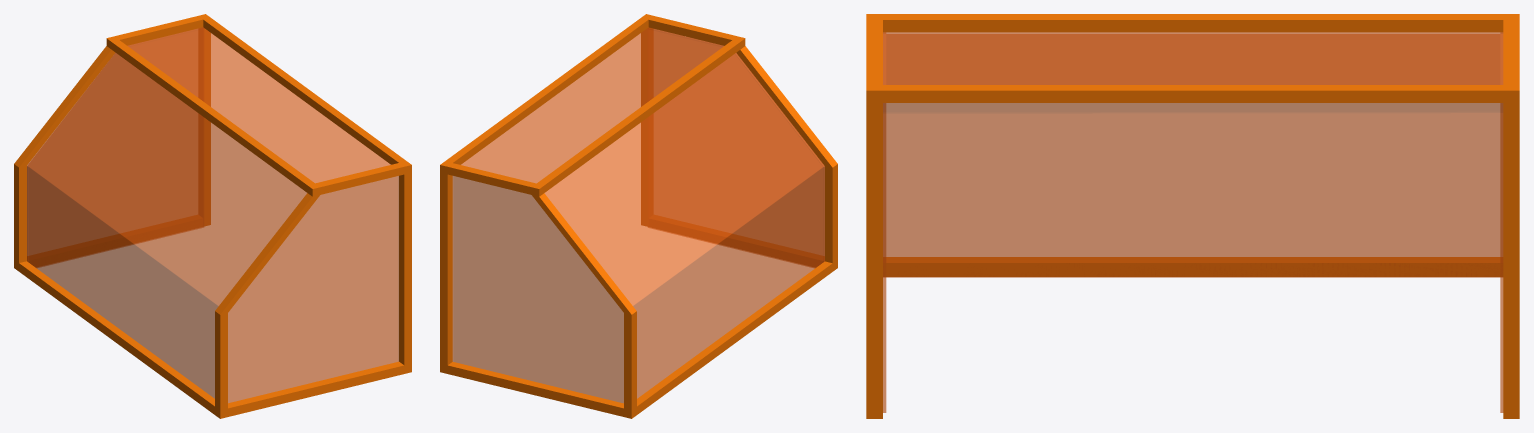
The model's file is goalo.fbx.
The picture shows the model from 3 angles, left to right: view 1: azimuth 30°, elevation 25°; view 2: azimuth 150°, elevation 25°; view 3: azimuth 270°, elevation 25°; orthographic projection. The views are drawn at different scales.
Parts seen in each view (by area): view 1: Soccer Goal.002; view 2: Soccer Goal.002; view 3: Soccer Goal.002.
Boxes of the visible parts, <box> form: Soccer Goal.002: <box>14,14,411,418</box>; Soccer Goal.002: <box>440,14,837,418</box>; Soccer Goal.002: <box>866,14,1519,418</box>.
Size of the model in its own units: 101 by 104 by 188.
